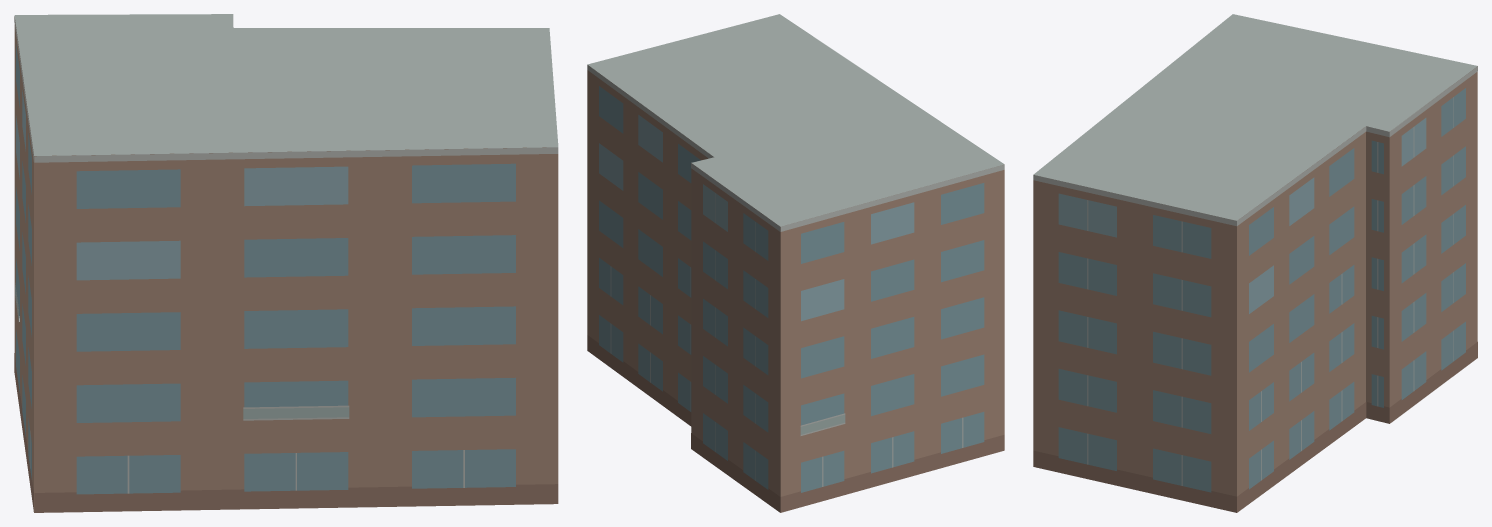
Rendered from survey-upis-32491400.glb.
The picture shows the model from 3 angles, left to right: view 1: azimuth 30°, elevation 25°; view 2: azimuth 150°, elevation 25°; view 3: azimuth 270°, elevation 25°; orthographic projection. The views are drawn at different scales.
Parts seen in each view (by area): view 1: survey-upis-32491400.tmp; view 2: survey-upis-32491400.tmp; view 3: survey-upis-32491400.tmp.
Part boxes in pixels (x1,y1,x2,y2): survey-upis-32491400.tmp: (14,14,558,512); survey-upis-32491400.tmp: (587,14,1004,512); survey-upis-32491400.tmp: (1033,14,1477,512).
Bounding box in the file's own units: 19.91 × 13.1 × 18.08.
